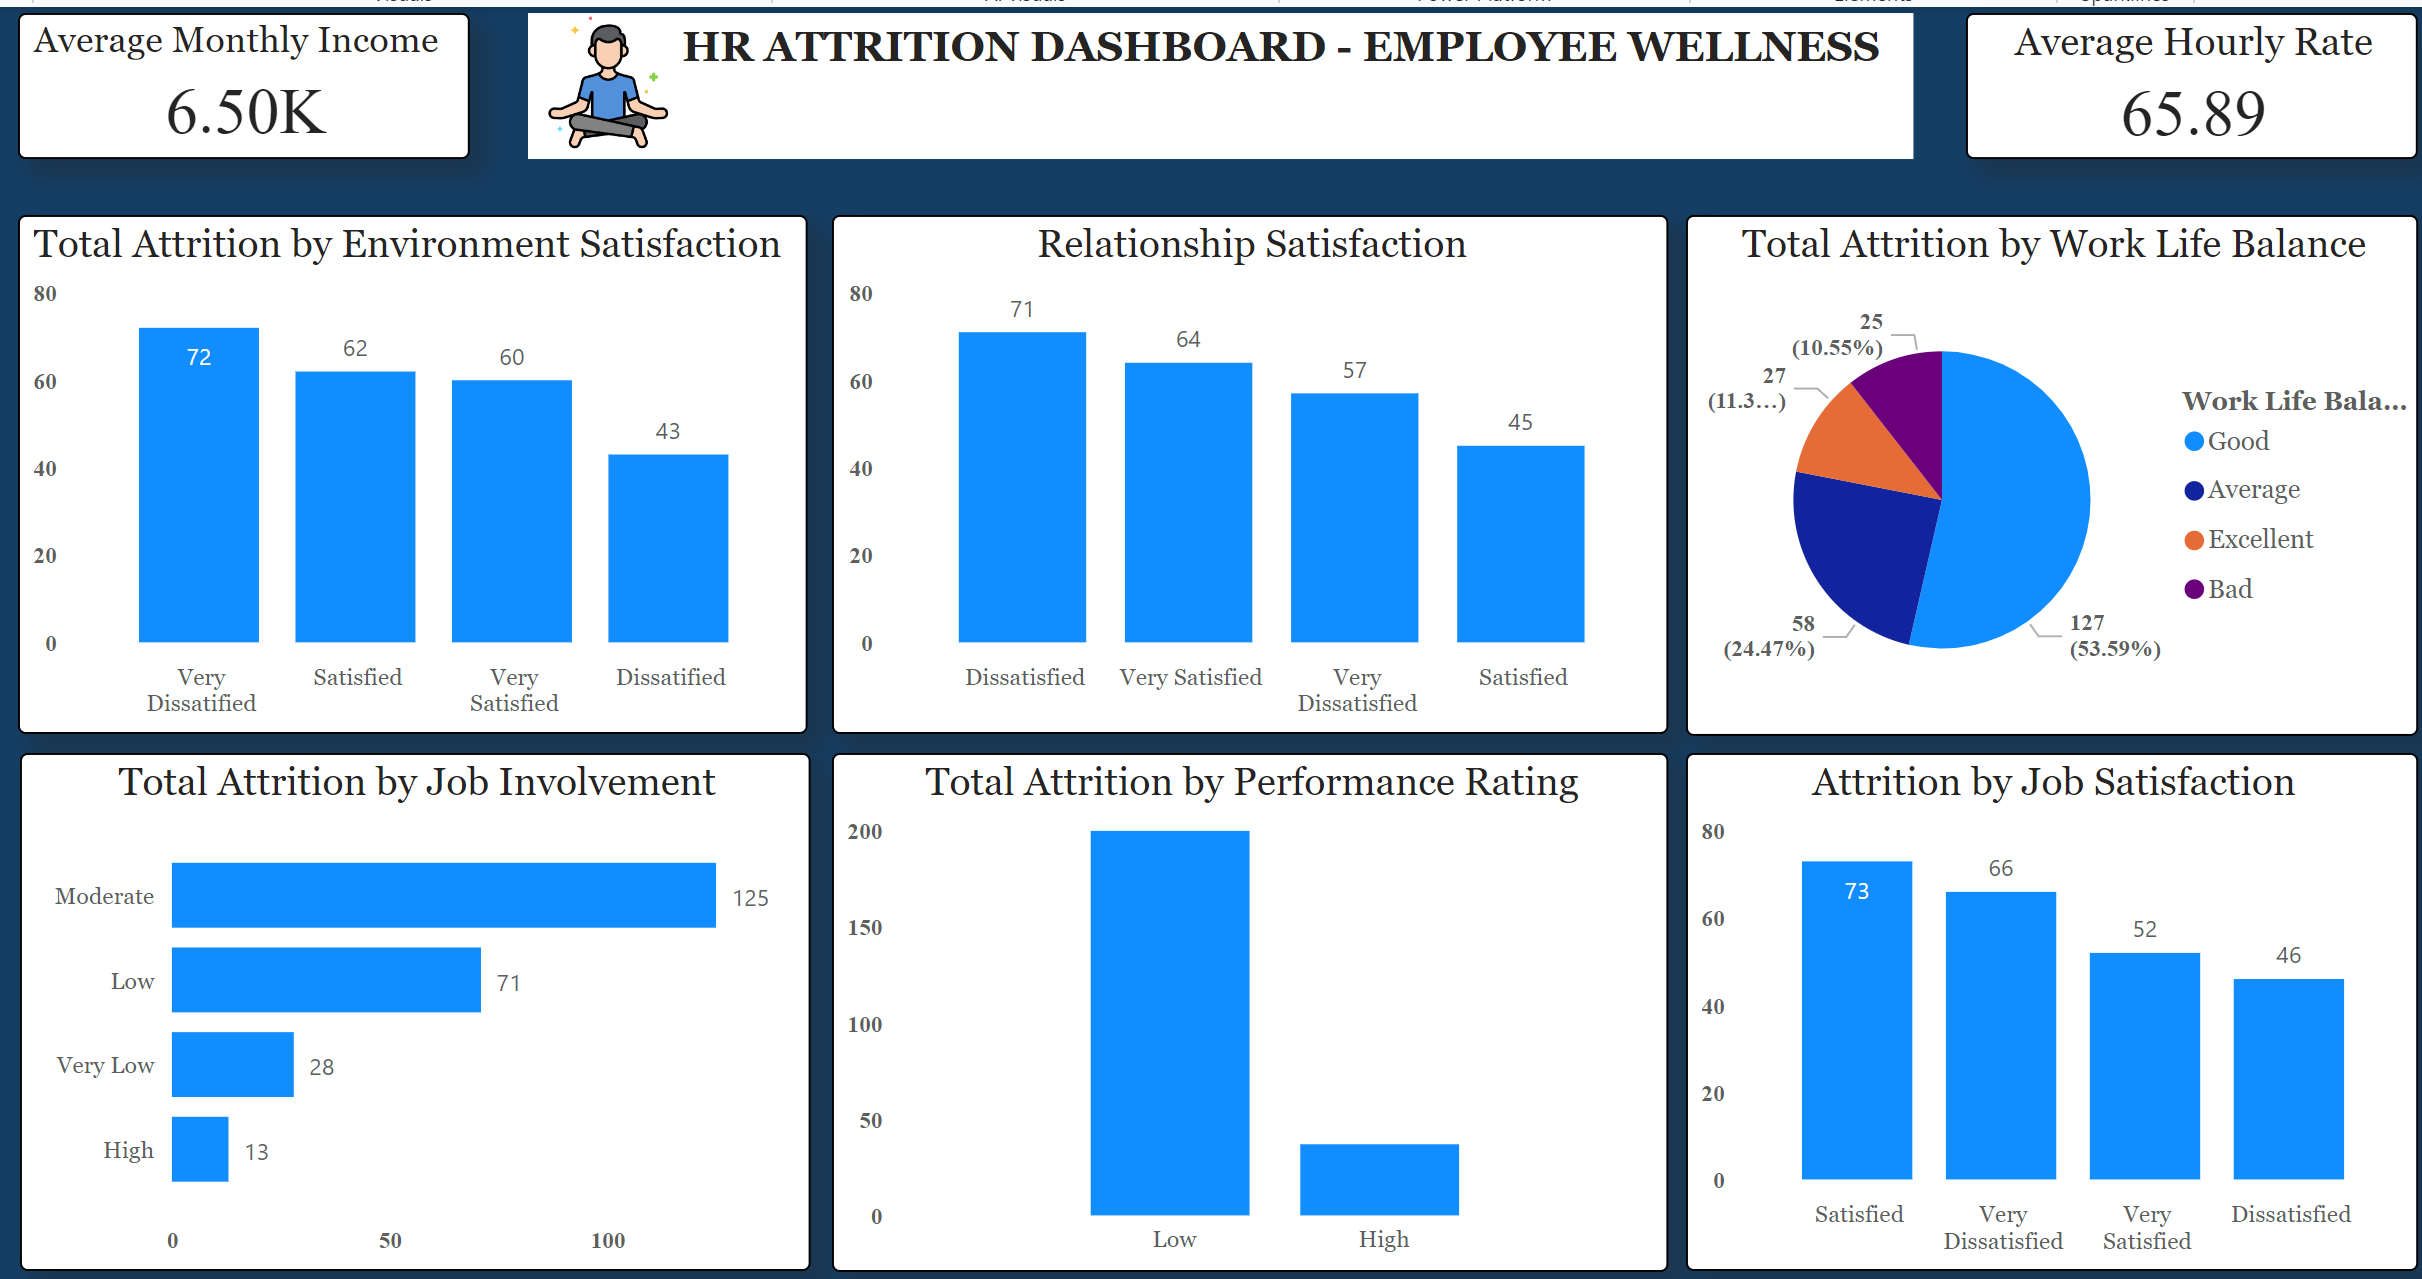

What the dashboard file says about the page in this screenshot:
{"tool":"powerbi","page":{"name":"EMPLOYEE WELLNESS","canvas":[1280,720],"ordinal":3},"visuals":[{"type":"textbox","box":[272.4,3.6,711.4,74.9],"z":0},{"type":"image","box":[272.4,0,82.1,77.3],"z":1000},{"type":"card","title":"Average Monthly Income","fields":{"Values":["Avg(HR-Employee-Attrition.Monthly Income)"]},"box":[10.7,3.6,232,74.9],"z":2000},{"type":"card","title":"Average Hourly Rate","fields":{"Values":["Avg(HR-Employee-Attrition.Hourly Rate)"]},"box":[1011.2,3.6,232,74.9],"z":3000},{"type":"columnChart","title":"Total Attrition by Environment Satisfaction","fields":{"Category":["HR-Employee-Attrition.Environment Satisfaction (groups)"],"Y":["Sum(HR-Employee-Attrition.Attraction Count)"]},"box":[10.7,107.1,405.7,266.5],"z":4000},{"type":"barChart","title":"Total Attrition by Job Involvement","fields":{"Category":["HR-Employee-Attrition.Job Involvement (groups)"],"Y":["Sum(HR-Employee-Attrition.Attraction Count)"]},"box":[11,383,406,266],"z":5000},{"type":"columnChart","title":"Relationship Satisfaction","fields":{"Category":["HR-Employee-Attrition.Relationship Satisfaction (groups)"],"Y":["Sum(HR-Employee-Attrition.Attraction Count)"]},"box":[428.3,107.1,429.4,266.5],"z":6000},{"type":"columnChart","title":"Total Attrition by Performance Rating","fields":{"Category":["HR-Employee-Attrition.Performance Rating (groups) 2"],"Y":["Sum(HR-Employee-Attrition.Attraction Count)"]},"box":[428.3,383,429.4,266.5],"z":7000},{"type":"pieChart","title":"Total Attrition by Work Life Balance","fields":{"Category":["HR-Employee-Attrition.Work Life Balance (groups)"],"Y":["Sum(HR-Employee-Attrition.Attraction Count)"]},"box":[867.2,107.1,375.9,267.7],"z":8000},{"type":"columnChart","title":"Attrition by Job Satisfaction","fields":{"Y":["Sum(HR-Employee-Attrition.Attraction Count)"],"Category":["HR-Employee-Attrition.Job Satisfaction (groups)"]},"box":[867,383,376,266],"z":9000}]}

Visuals, with their boxes on the page's 1280x720 design canvas (x1, y1, x2, y2). These are canvas units, not pixel positions in the 2422x1279 screenshot, which may show the page scaled, cropped or inside an application window:
textbox: crop(272, 4, 984, 78)
image: crop(272, 0, 354, 77)
"Average Monthly Income" card: crop(11, 4, 243, 78)
"Average Hourly Rate" card: crop(1011, 4, 1243, 78)
"Total Attrition by Environment Satisfaction" columnChart: crop(11, 107, 416, 374)
"Total Attrition by Job Involvement" barChart: crop(11, 383, 417, 649)
"Relationship Satisfaction" columnChart: crop(428, 107, 858, 374)
"Total Attrition by Performance Rating" columnChart: crop(428, 383, 858, 650)
"Total Attrition by Work Life Balance" pieChart: crop(867, 107, 1243, 375)
"Attrition by Job Satisfaction" columnChart: crop(867, 383, 1243, 649)
